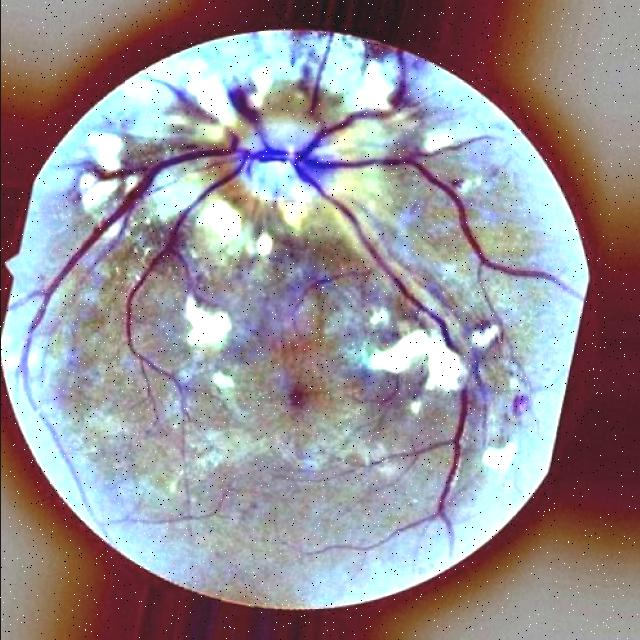Macula: (271, 368, 330, 422)
Nerves: (18, 86, 581, 394), (430, 388, 468, 537), (160, 80, 212, 120)
Optic Disk: (235, 115, 331, 200)
